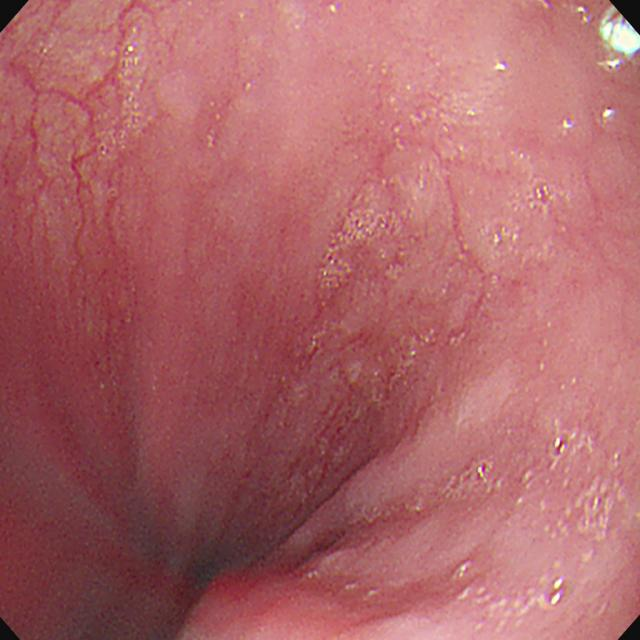T: (316, 208, 391, 293), (97, 45, 142, 162), (440, 462, 491, 503)
U: (598, 7, 640, 57), (550, 579, 567, 607)
